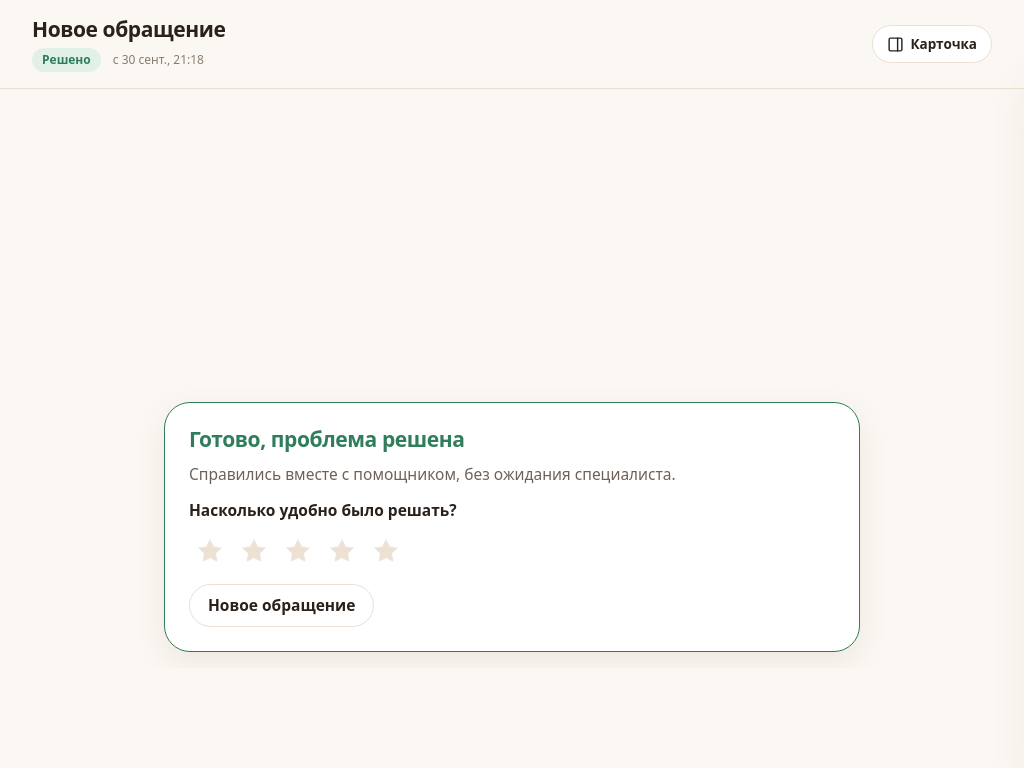
Test: ConversationPage status gating › lets the employee rate a resolved conversation
Click the radio button named "5 из 5": (386, 551) left=365, top=530, right=407, bottom=572
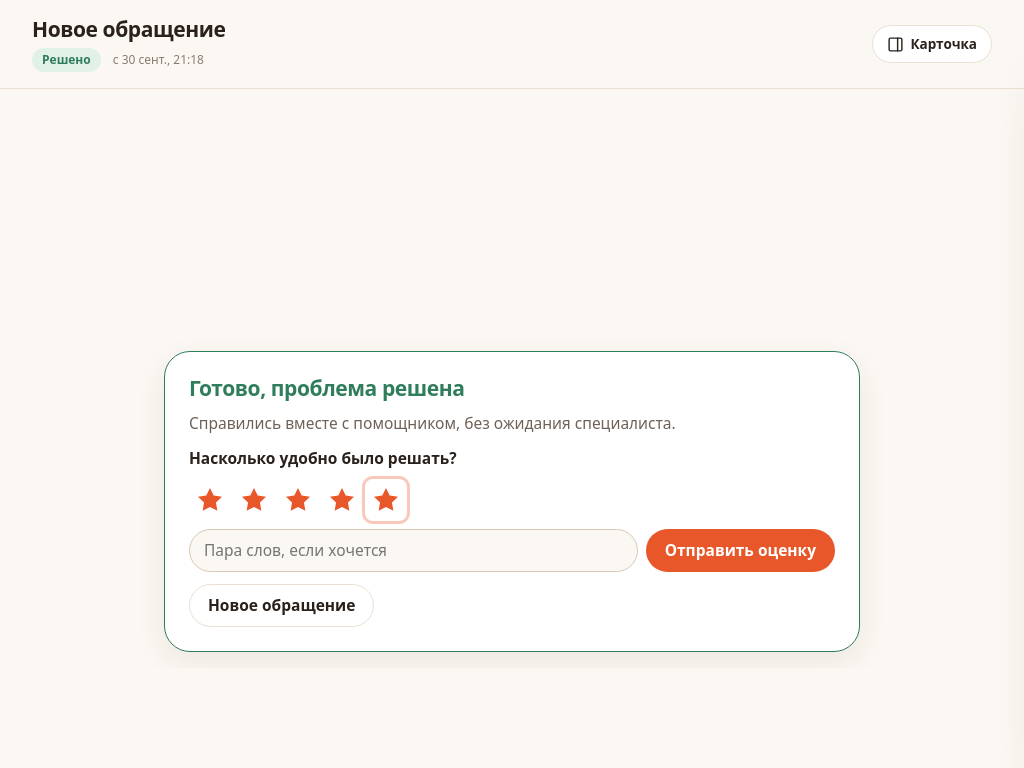
Click the button "Отправить оценку": (740, 550) left=646, top=528, right=835, bottom=572
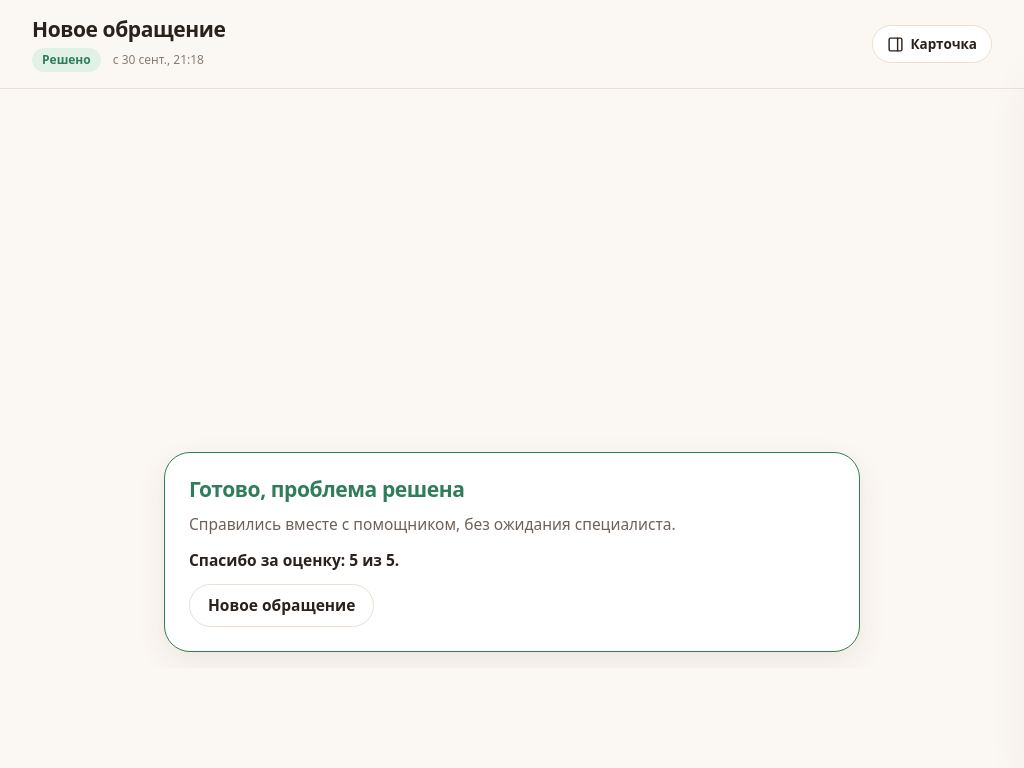
Check: the text "Спасибо за оценку: 5 из 5." is shown, box left=189, top=548, right=399, bottom=570
